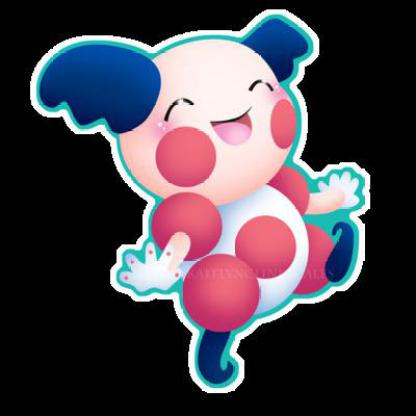Mr. Mime: (21, 22, 416, 416)
